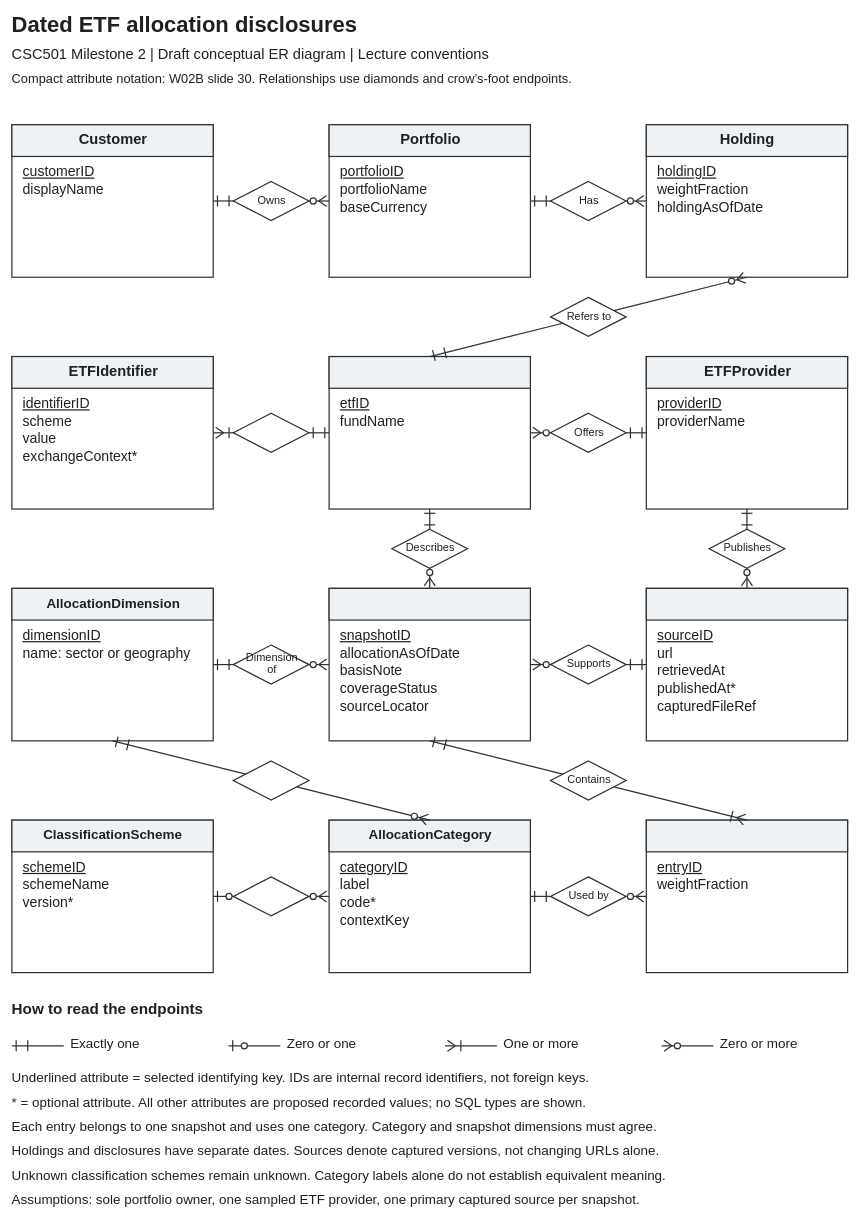
Some shapes in this 858 by 1219 pixel diagram are drawn without their labels. The shapes that lost their labels are listed below. From the top down, each one's box as (x1, y1, x2, y2) in pixels, then its label:
(328, 356, 531, 389): ETF
(232, 412, 309, 453): Identifies
(328, 587, 531, 620): AllocationSnapshot
(645, 587, 848, 620): SourceDocument
(232, 760, 309, 800): Categorizes
(645, 819, 848, 852): AllocationEntry
(232, 876, 309, 916): Defines
